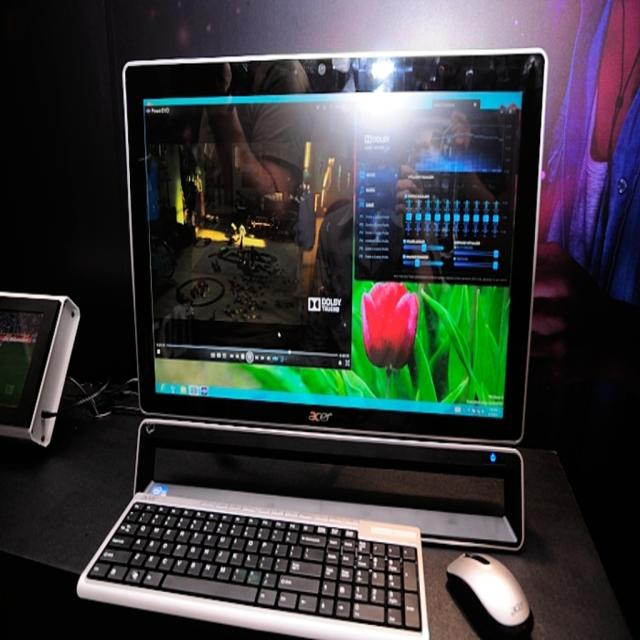Computer-mouse: (446, 552, 537, 637)
